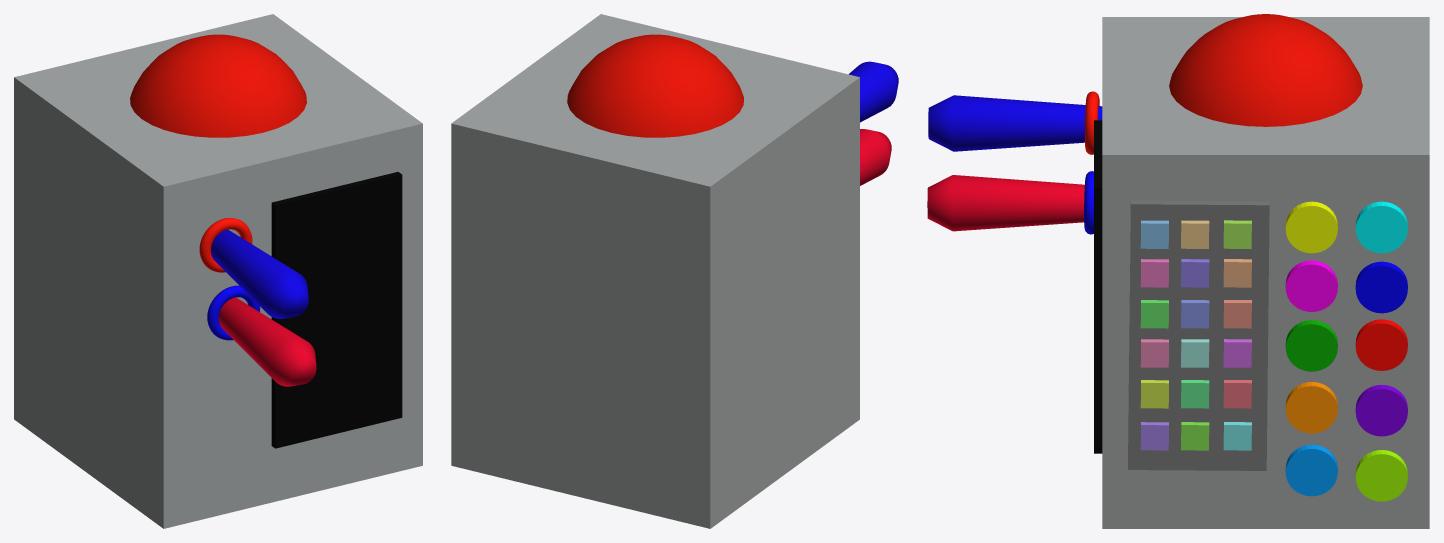
File: thingamabob.glb
3 renders of one model, left to right at view 1: azimuth 30°, elevation 25°; view 2: azimuth 150°, elevation 25°; view 3: azimuth 270°, elevation 25°, orthographic. The views are drawn at different scales.
Parts seen in each view (by area): view 1: Cube, Cube.001, Sphere, Cylinder.010, Cylinder.011, Torus, Torus.001; view 2: Cube, Sphere, Cylinder.010, Cylinder.011; view 3: Cube, Cube.002, Sphere, Cylinder.010, Cylinder.011, Cube.001, Cylinder, Cylinder.001, Cylinder.002, Cylinder.003, Cylinder.007, Cylinder.006 (+24 smaller).
Boxes of the visible parts, box(x1,y1,x2,y2) form: Cube: box(14, 14, 422, 528); Cube.001: box(271, 172, 402, 448); Sphere: box(130, 34, 306, 137); Cylinder.010: box(211, 229, 308, 318); Cylinder.011: box(218, 297, 316, 386); Torus: box(199, 218, 252, 272); Torus.001: box(207, 285, 260, 340); Cube: box(451, 14, 859, 528); Sphere: box(567, 34, 743, 137); Cylinder.010: box(849, 61, 898, 122); Cylinder.011: box(860, 129, 891, 185); Cube: box(1102, 17, 1429, 528); Cube.002: box(1128, 200, 1269, 470); Sphere: box(1169, 14, 1362, 126); Cylinder.010: box(928, 95, 1102, 151); Cylinder.011: box(927, 175, 1084, 231); Cube.001: box(1094, 120, 1102, 453); Cylinder: box(1355, 261, 1407, 313); Cylinder.001: box(1285, 201, 1337, 253); Cylinder.002: box(1355, 201, 1407, 253); Cylinder.003: box(1355, 450, 1407, 501); Cylinder.007: box(1285, 444, 1337, 496); Cylinder.006: box(1285, 382, 1337, 433).
Size of the model in its own units: 5.45 by 7.65 by 7.98.
